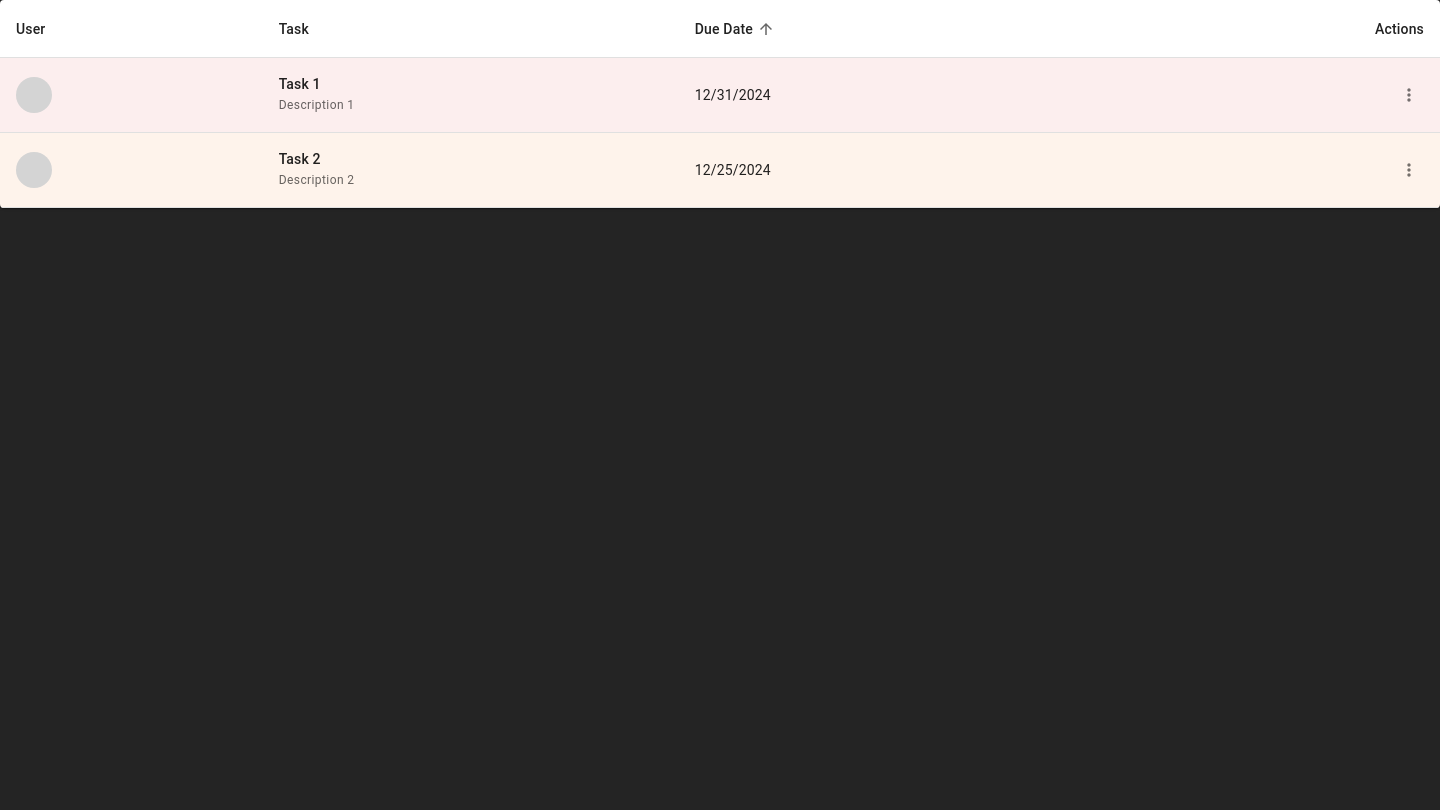
Test: TasksTableCompact › opens view dialog from menu
Click the button named "task actions" in the row of "Task 1" at (1409, 95), box top-left (1394, 80), bottom-right (1424, 110)
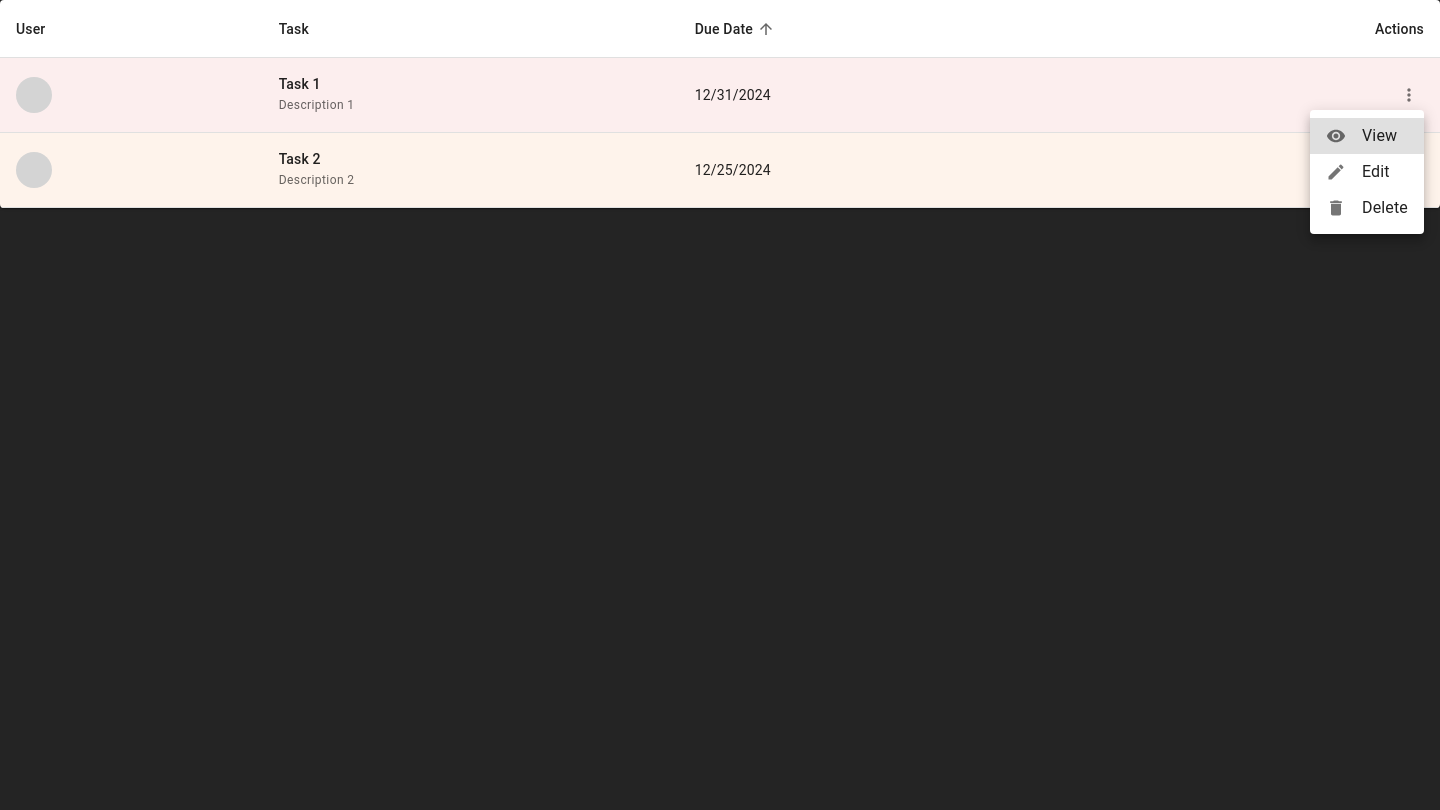
Click the menu item "View" at (1367, 136), box top-left (1310, 118), bottom-right (1424, 154)
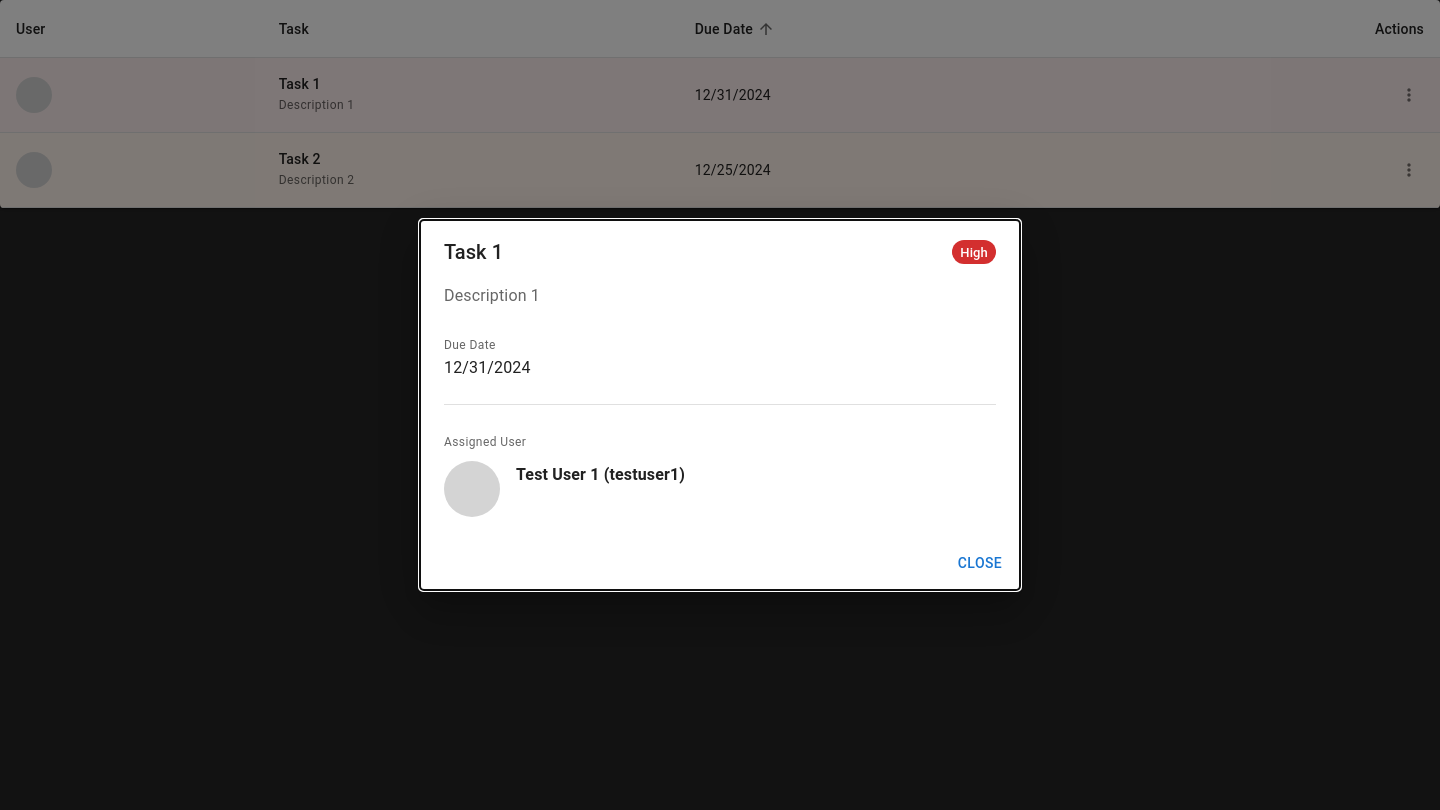
Expected: the 1st text "Task 1" is shown, top-left (279, 76), bottom-right (321, 92)
Expected: the dialog is shown, top-left (420, 220), bottom-right (1020, 590)
